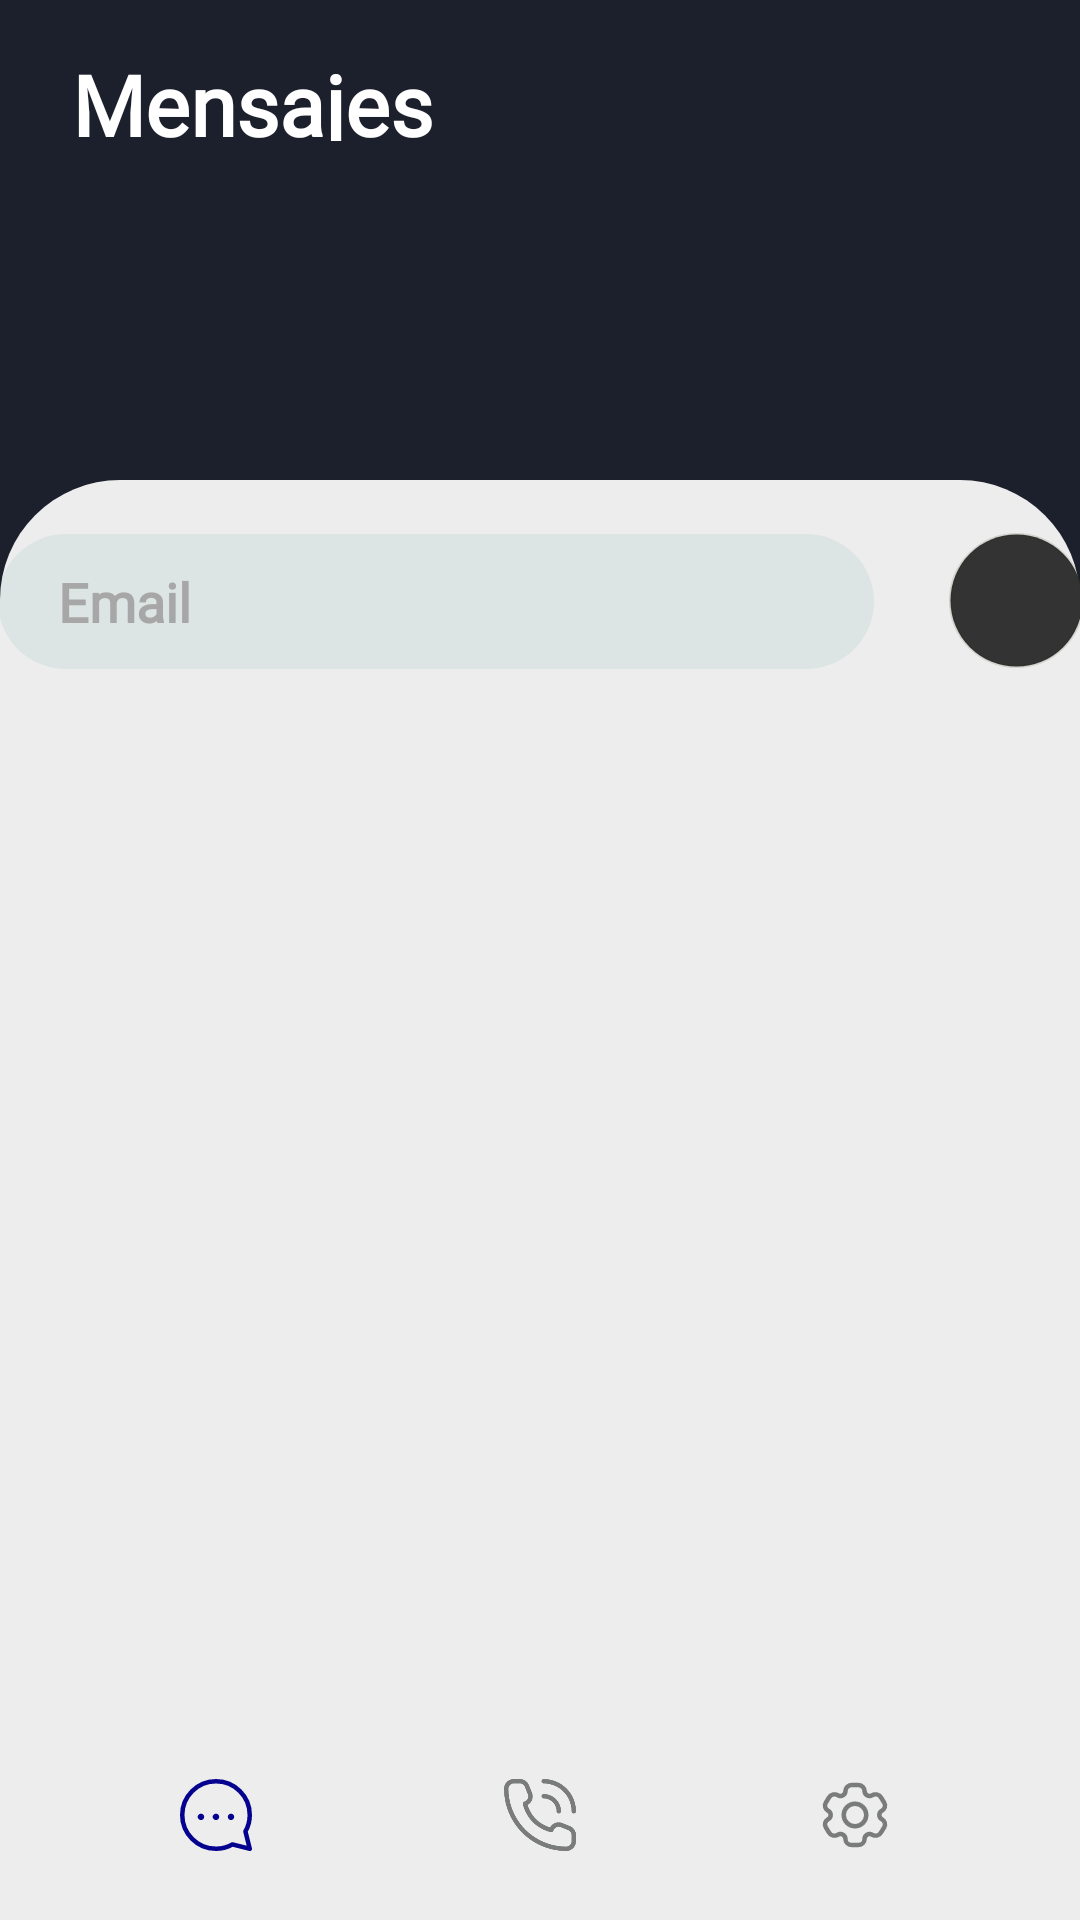

Icons on this 1080px×1920px Android screen, each with the point to tap as point (x, y):
settings: point (855, 1815)
